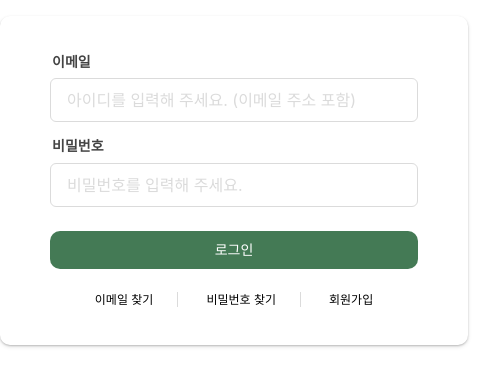
Test: LoginForm 컴포넌트 테스트 › 올바르지 않은 형식의 이메일이나 비밀 번호를 입력 후 외부를 클릭했을 경우 올바른 형식의 입력을 요청하는 문구를 화면에 렌더링해야 한다.
Type "example" into the field labelled "이메일" at x=234, y=100, box [50,78,418,122]
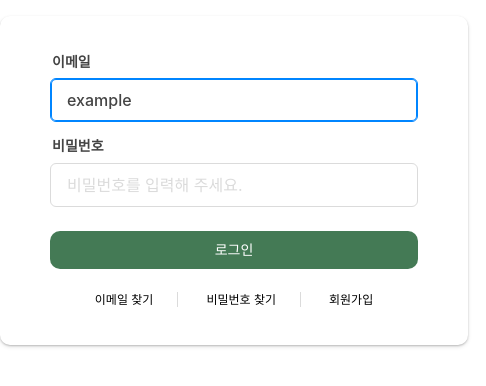
Type "example" into the password field labelled "비밀번호" at x=234, y=185, box [50,163,418,207]
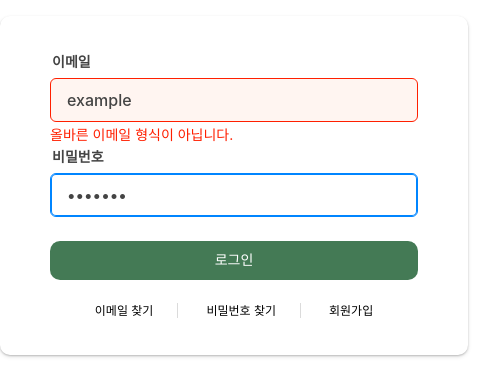
Click the form named "login" at x=234, y=186, box [0,16,468,355]
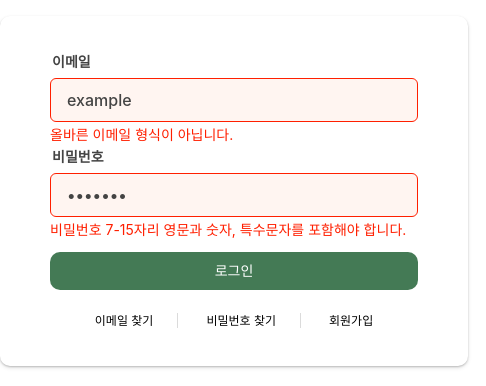
Expected: the text "비밀번호 7-15자리 영문과 숫자, 특수문자를 포함해야 합니다." is shown, [50,226,418,236]
